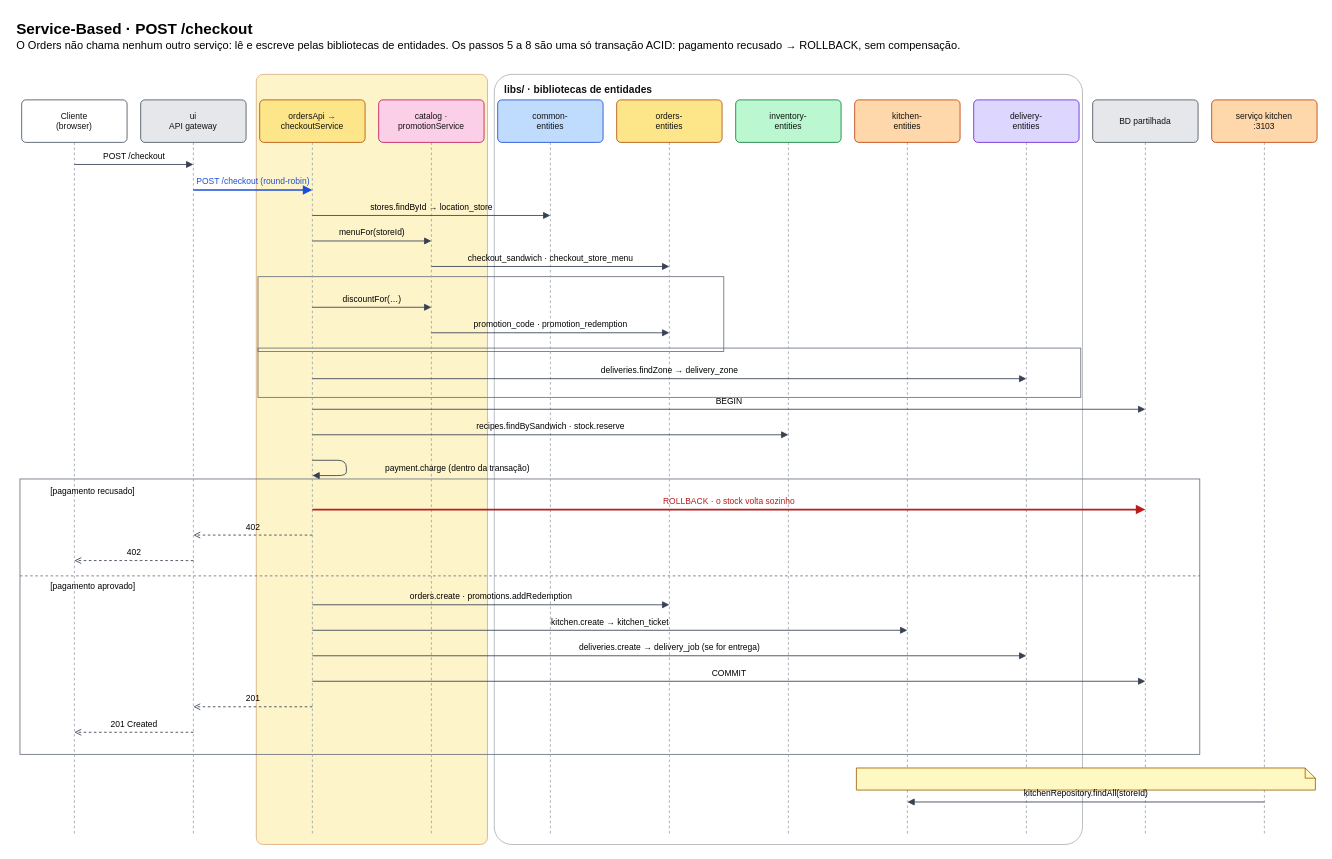
Image size: 1332x859. Some labels were removed from this diagram. Here are the shapes that lost their labels. From the top down, the box of each, then its label:
(257, 276, 724, 351): opt [há código promocional]
(257, 347, 1081, 397): opt [entrega ao domicílio]
(255, 74, 487, 844): serviço orders · :3101 ou :3111
(19, 478, 1200, 754): alt
(856, 767, 1315, 790): mais tarde, sem ninguém o avisar: GET /kitchen/queue
